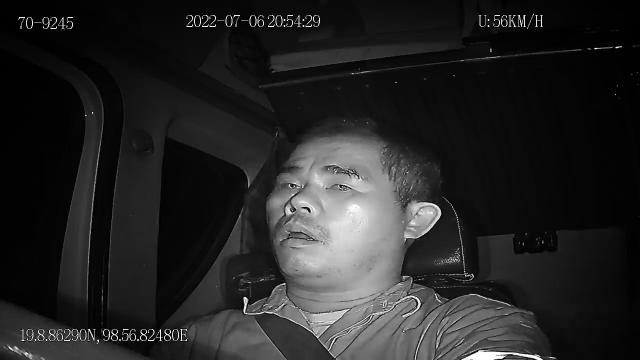SafeDriving: (318, 172, 361, 195)
Seatbelt: (246, 278, 342, 360)
